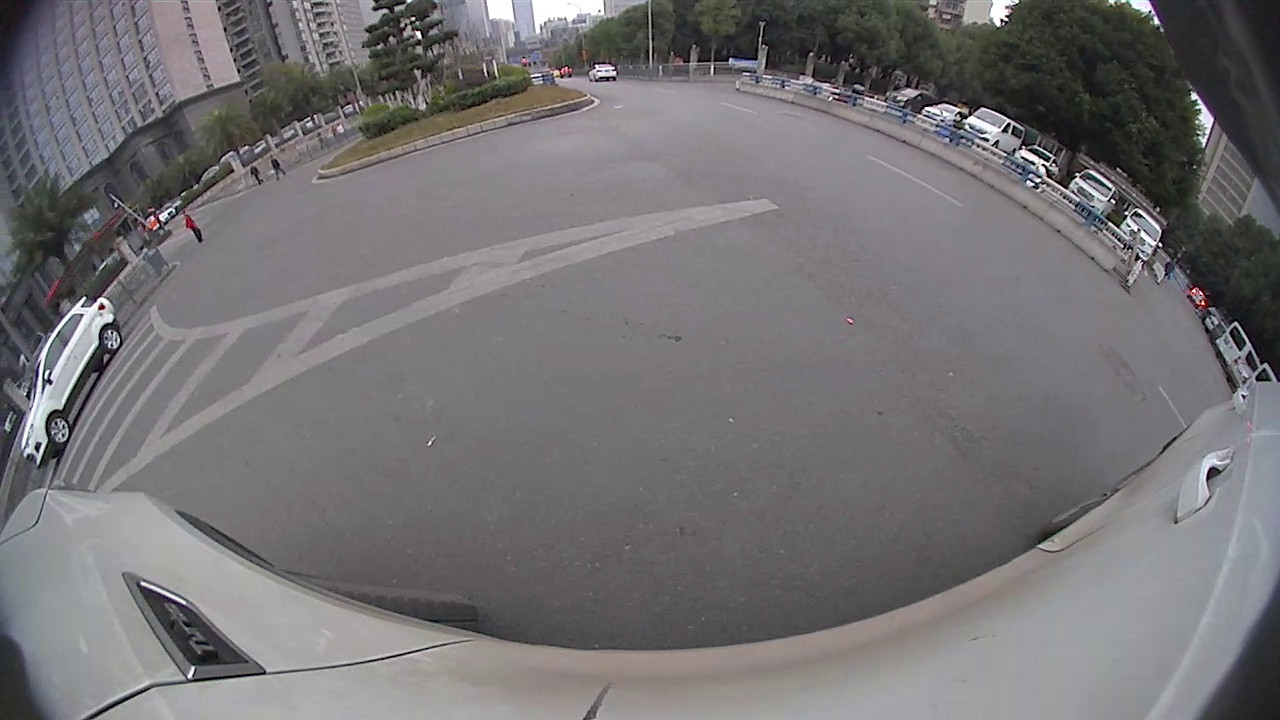car: (19, 292, 126, 473), (1213, 318, 1263, 390), (963, 106, 1027, 156), (1116, 205, 1164, 264), (1067, 166, 1119, 218), (1007, 143, 1062, 180)
front: (45, 413, 73, 448)
rear: (98, 322, 124, 355)
